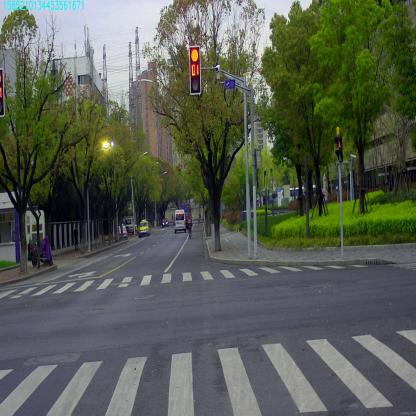traffic-light: (189, 46, 200, 94)
